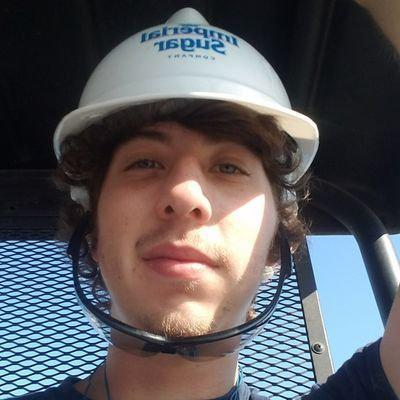helmet: (54, 6, 319, 184)
